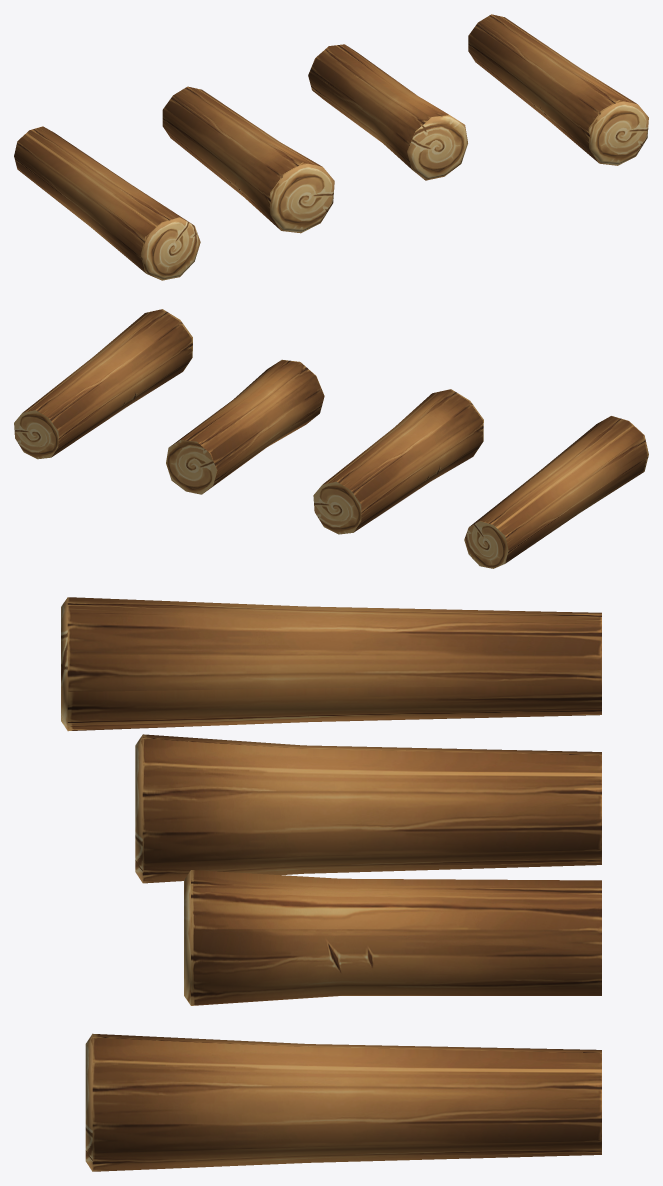
Rendered from DE_House_Mod_Part_29a.fbx.
3 renders of one model, top to bottom at view 1: azimuth 30°, elevation 25°; view 2: azimuth 150°, elevation 25°; view 3: azimuth 270°, elevation 25°, orthographic. The views are drawn at different scales.
Visible parts, largest first — view 1: DE_House_Mod_Part_29a; view 2: DE_House_Mod_Part_29a; view 3: DE_House_Mod_Part_29a.
Boxes of the visible parts, box(x1,y1,x2,y2) form: DE_House_Mod_Part_29a: box(14, 14, 648, 280); DE_House_Mod_Part_29a: box(14, 309, 648, 568); DE_House_Mod_Part_29a: box(61, 597, 601, 1171).
Size of the model in its own units: 4.26 by 0.5716 by 1.96.
